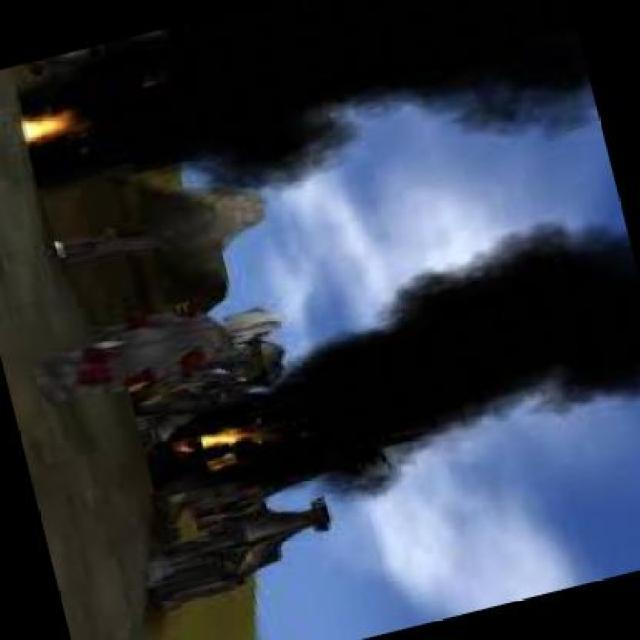Fire: (175, 417, 260, 470), (24, 86, 84, 156)
Smoke: (295, 213, 639, 491), (100, 10, 600, 188)
